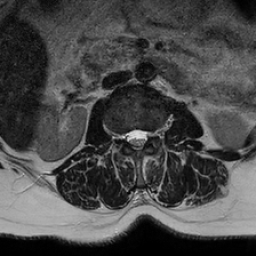CCS_normal: (133, 123, 141, 154)
LFS_stenosis: (148, 126, 155, 142)
LLS_normal: (141, 123, 148, 149)
RFS_stenosis: (116, 126, 126, 145)
RLS_normal: (125, 124, 133, 148)
